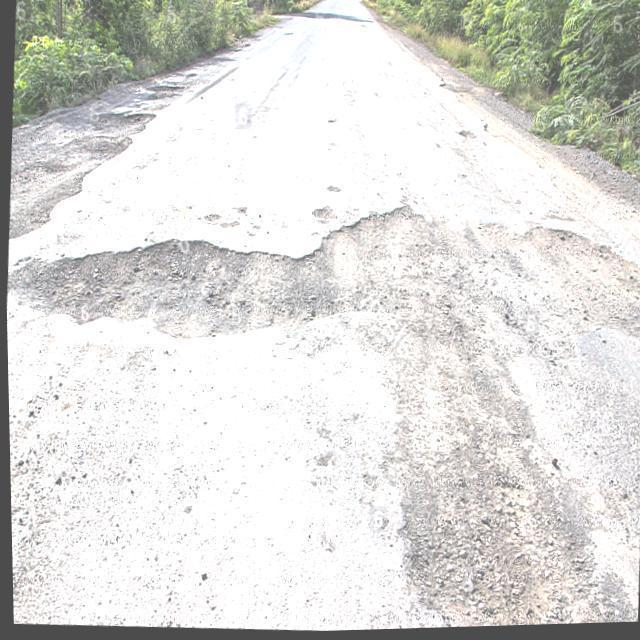Pothole: (6, 205, 640, 631)
